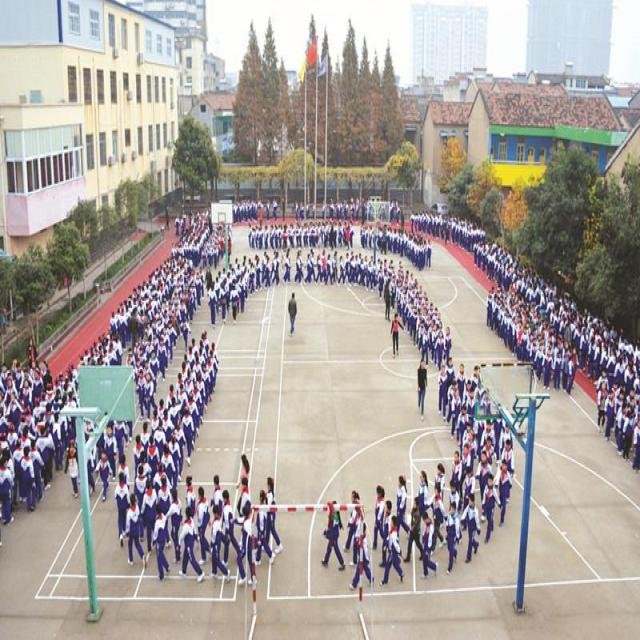non-fight: (178, 483, 205, 579), (59, 388, 82, 498), (348, 518, 375, 598), (430, 464, 450, 570), (381, 509, 406, 590), (94, 418, 116, 505), (210, 496, 230, 586), (460, 486, 482, 566), (160, 399, 182, 478), (404, 491, 425, 572), (322, 498, 344, 570), (259, 477, 278, 557), (494, 456, 510, 530), (46, 402, 59, 490), (116, 420, 133, 486), (415, 350, 429, 417), (437, 361, 452, 417), (286, 294, 297, 338)
